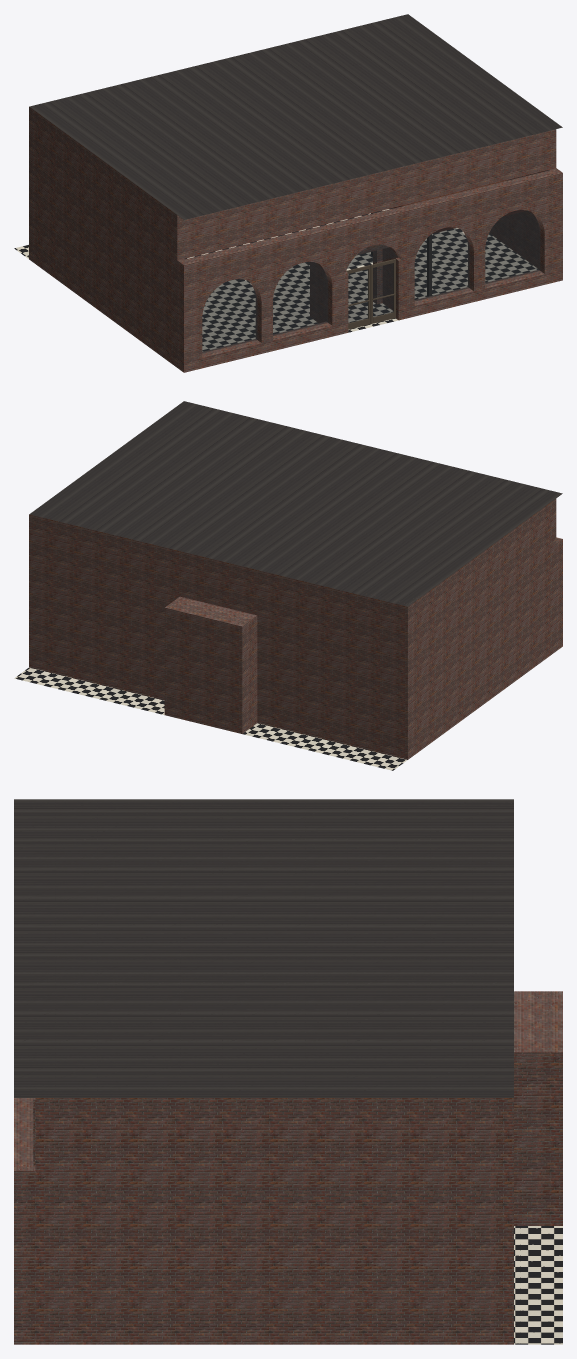
The model's file is flynns_env.glb.
The picture shows the model from 3 angles, top to bottom: view 1: azimuth 30°, elevation 25°; view 2: azimuth 150°, elevation 25°; view 3: azimuth 270°, elevation 25°; orthographic projection. The views are drawn at different scales.
Parts seen in each view (by area): view 1: Outside/Flynns/FlynnsShell/Flynns_Ceiling, Outside/Flynns/FlynnsShell/Flynns_Walls, Outside/Flynns/FlynnsShell/Flynns_WallsUpper, Outside/Flynns/FlynnsShell/Flynns_Floor, Outside/Flynns/FlynnsArchGlass/Arch0, Outside/Flynns/FlynnsArchGlass/Arch3, Outside/Flynns/FlynnsArchGlass/Arch4, Outside/Flynns/FlynnsArchGlass/Arch1, Outside/Flynns/FlynnsArchGlass/FlynnDoorR, Outside/Flynns/FlynnsArchGlass/FlynnDoorL, Outside/Flynns/FlynnsArchGlass/Arch2, Outside/Flynns/FlynnsShell/Flynns_Mezzanine; view 2: Outside/Flynns/FlynnsShell/Flynns_Walls, Outside/Flynns/FlynnsShell/Flynns_Ceiling, Outside/Flynns/FlynnsShell/Flynns_WallsUpper, Outside/Flynns/FlynnsShell/Flynns_Floor; view 3: Outside/Flynns/FlynnsShell/Flynns_Ceiling, Outside/Flynns/FlynnsShell/Flynns_Walls, Outside/Flynns/FlynnsShell/Flynns_WallsUpper, Outside/Flynns/FlynnsShell/Flynns_Floor.
Part boxes in pixels (x1,y1,x2,y2): Outside/Flynns/FlynnsShell/Flynns_Ceiling: (29,14,562,219); Outside/Flynns/FlynnsShell/Flynns_Walls: (29,152,562,372); Outside/Flynns/FlynnsShell/Flynns_WallsUpper: (29,107,556,260); Outside/Flynns/FlynnsShell/Flynns_Floor: (14,208,538,351); Outside/Flynns/FlynnsArchGlass/Arch0: (202,279,257,352); Outside/Flynns/FlynnsArchGlass/Arch3: (414,227,469,301); Outside/Flynns/FlynnsArchGlass/Arch4: (485,210,540,283); Outside/Flynns/FlynnsArchGlass/Arch1: (273,262,328,335); Outside/Flynns/FlynnsArchGlass/FlynnDoorR: (370,259,395,323); Outside/Flynns/FlynnsArchGlass/FlynnDoorL: (346,265,370,329); Outside/Flynns/FlynnsArchGlass/Arch2: (347,244,396,268); Outside/Flynns/FlynnsShell/Flynns_Mezzanine: (371,180,526,296); Outside/Flynns/FlynnsShell/Flynns_Walls: (29,537,562,759); Outside/Flynns/FlynnsShell/Flynns_Ceiling: (29,401,562,606); Outside/Flynns/FlynnsShell/Flynns_WallsUpper: (29,499,556,651); Outside/Flynns/FlynnsShell/Flynns_Floor: (14,667,407,770); Outside/Flynns/FlynnsShell/Flynns_Ceiling: (14,799,513,1097); Outside/Flynns/FlynnsShell/Flynns_Walls: (14,991,562,1344); Outside/Flynns/FlynnsShell/Flynns_WallsUpper: (35,1098,513,1170); Outside/Flynns/FlynnsShell/Flynns_Floor: (514,1226,562,1344).
Size of the model in its own units: 16.6 by 6.4 by 12.9.
Materials: 10 (4 with a texture image).
